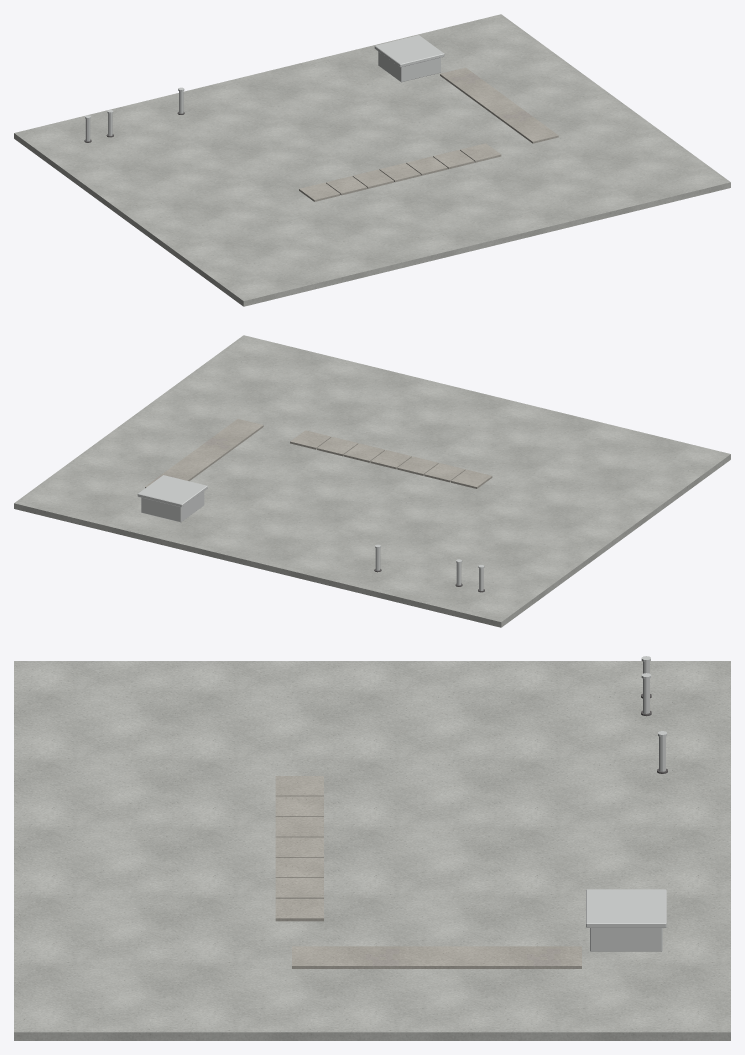
Rendered from roof_flat.glb.
3 views of the same model, one above another, from view 1: azimuth 30°, elevation 25°; view 2: azimuth 150°, elevation 25°; view 3: azimuth 270°, elevation 25° (orthographic). The views are drawn at different scales.
Parts seen in each view (by area): view 1: roof_flat_membrane, roof_flat_concrete, roof_flat_unit; view 2: roof_flat_membrane, roof_flat_concrete, roof_flat_unit; view 3: roof_flat_membrane, roof_flat_concrete, roof_flat_unit.
Boxes of the visible parts, x1,y1,x2,y2 form: roof_flat_membrane: (14, 14, 730, 306); roof_flat_concrete: (299, 67, 558, 201); roof_flat_unit: (85, 35, 444, 141); roof_flat_membrane: (14, 335, 730, 627); roof_flat_concrete: (145, 419, 492, 488); roof_flat_unit: (137, 475, 484, 590); roof_flat_membrane: (14, 661, 730, 1040); roof_flat_concrete: (275, 776, 581, 968); roof_flat_unit: (586, 656, 666, 951).
Size of the model in its own units: 10.9 by 0.65 by 8.9.
4 materials, 2 textured.
